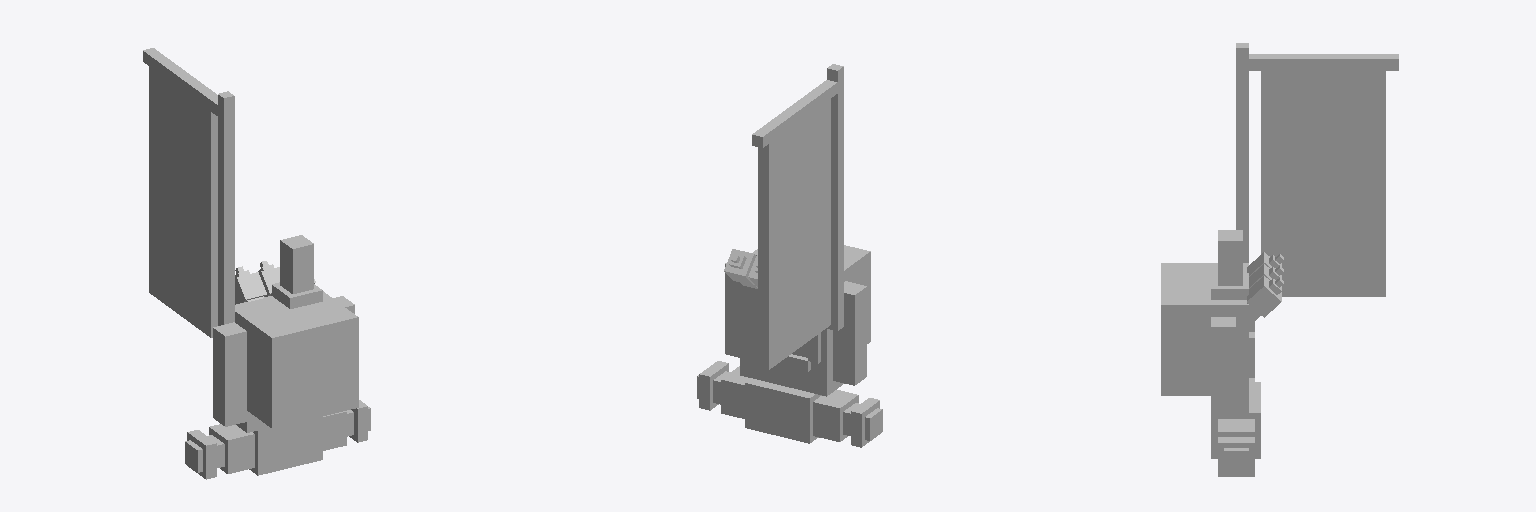
File: powerpack.obj
3 renders of one model, left to right at view 1: azimuth 30°, elevation 25°; view 2: azimuth 150°, elevation 25°; view 3: azimuth 270°, elevation 25°, orthographic.
Visible parts, largest first — view 1: banner, base, chest, banner_post, antenna, tubes; view 2: base, banner, banner_post, chest, tubes; view 3: banner, base, chest, banner_post, antenna, tubes.
Boxes of the visible parts, box(x1,y1,x2,y2) form: banner: box(149, 67, 217, 337); base: box(185, 291, 370, 479); chest: box(247, 299, 358, 428); banner_post: box(143, 48, 234, 325); antenna: box(272, 235, 322, 308); tubes: box(235, 261, 315, 304); base: box(697, 263, 882, 447); banner: box(758, 99, 830, 369); banner_post: box(752, 64, 843, 330); chest: box(844, 245, 870, 343); tubes: box(724, 249, 757, 286); banner: box(1261, 71, 1385, 296); base: box(1211, 263, 1260, 476); chest: box(1161, 263, 1210, 395); banner_post: box(1236, 43, 1398, 262); antenna: box(1211, 230, 1248, 299); tubes: box(1247, 252, 1283, 317).
Bounding box in the file's own units: 1 × 2.06 × 1.19.